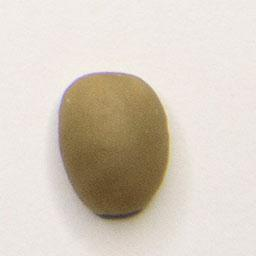premium: (55, 68, 172, 221)
